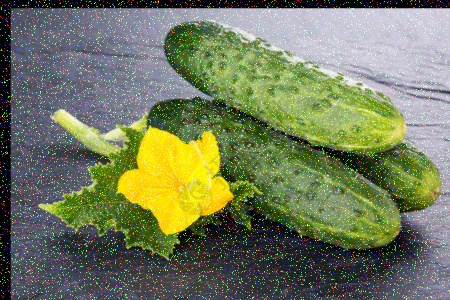cucumber: (164, 18, 405, 137)
cucumber_plant: (40, 113, 232, 253)
